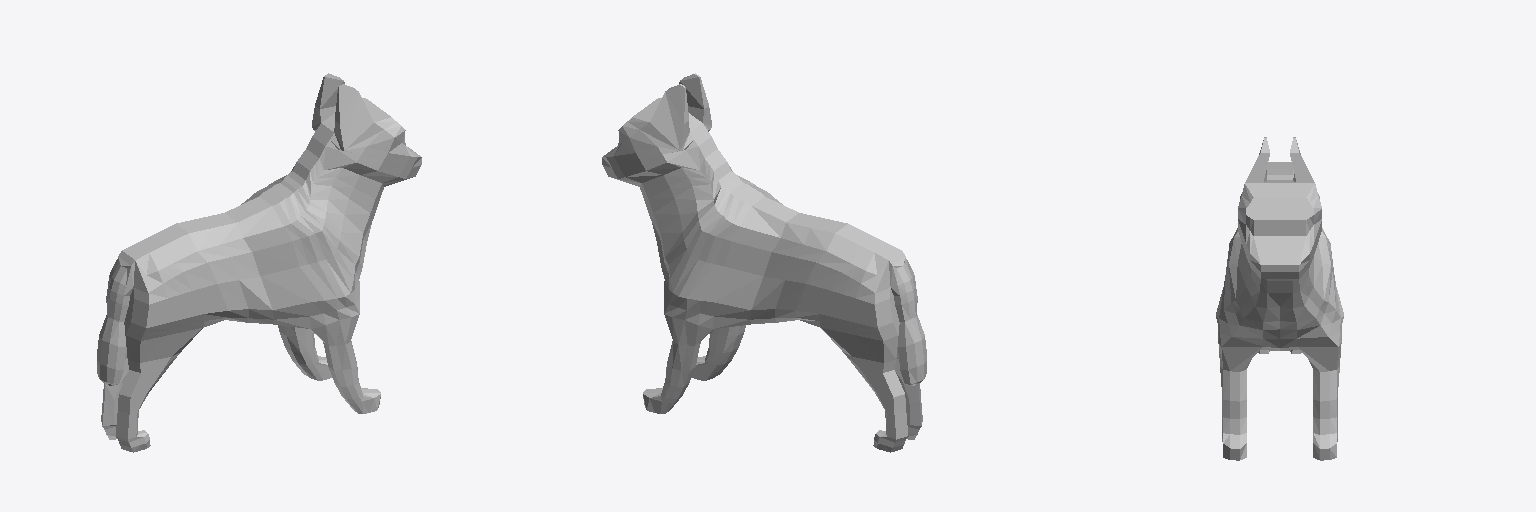
Rendered from dog.obj.
3 views of the same model, side by side, from view 1: azimuth 30°, elevation 25°; view 2: azimuth 150°, elevation 25°; view 3: azimuth 270°, elevation 25° (orthographic).
Visible parts, largest first — view 1: Plane; view 2: Plane; view 3: Plane.
Boxes of the visible parts, <box> form: Plane: <box>97,73,421,452</box>; Plane: <box>602,73,926,452</box>; Plane: <box>1216,137,1343,460</box>.
Bounding box in the file's own units: 2.16 × 2.08 × 0.7701.